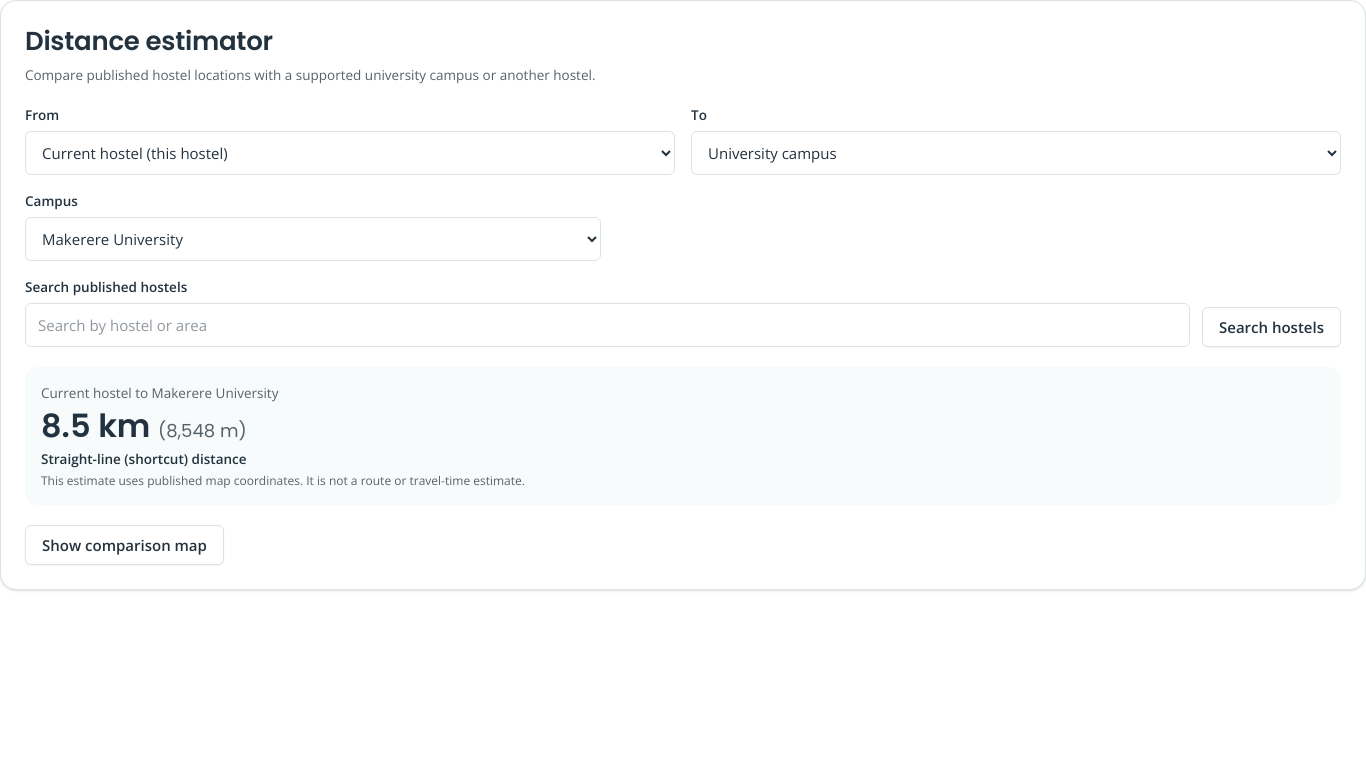
DistanceEstimator › shows a straight-line result and keeps the comparison map opt-in
The image size is (1366, 768).
Click the button "Show comparison map". click: coordinates (124, 545)
box: left=25, top=525, right=224, bottom=565
(page scrolled)
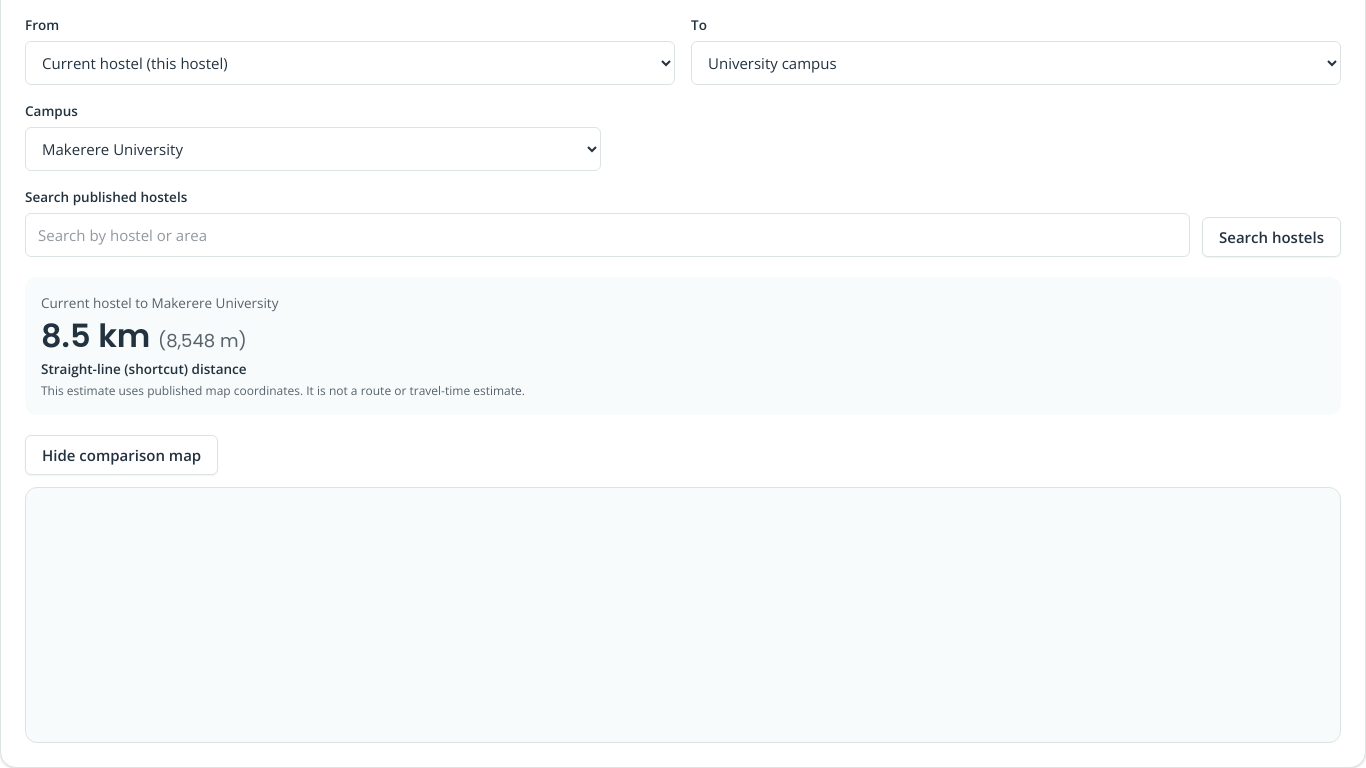
Expected: the element with id "distance-comparison-map" is shown, left=25, top=487, right=1341, bottom=743
